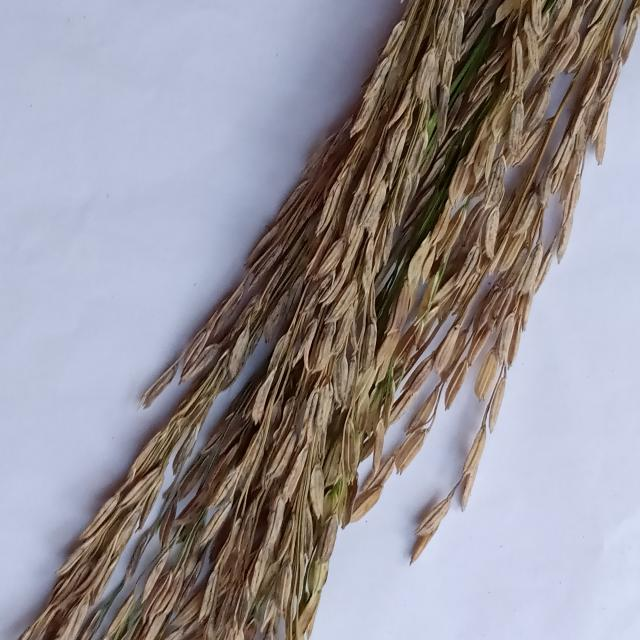Neck_Blast: (73, 0, 640, 640), (0, 0, 493, 640)
